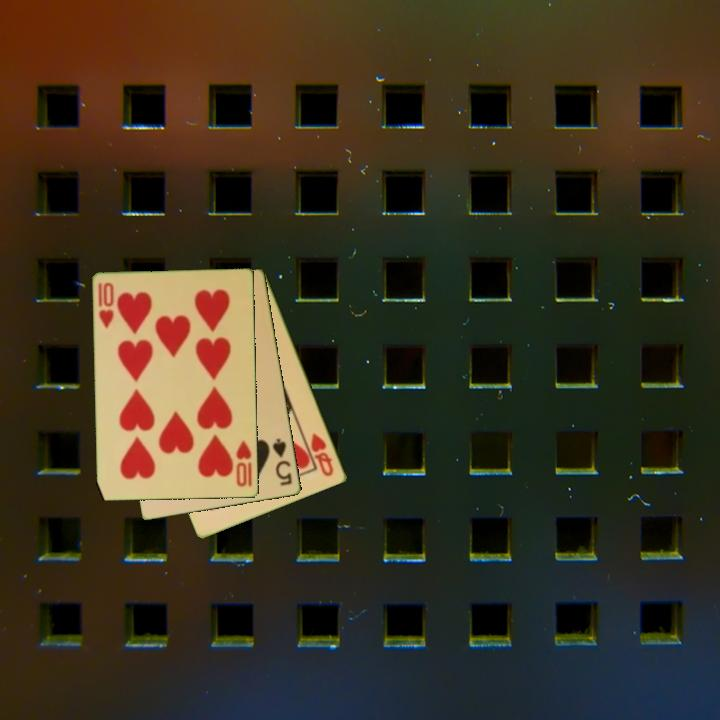10h: (233, 437, 255, 490), (95, 279, 117, 331)
5s: (269, 435, 295, 489)
Qh: (308, 429, 337, 480)
